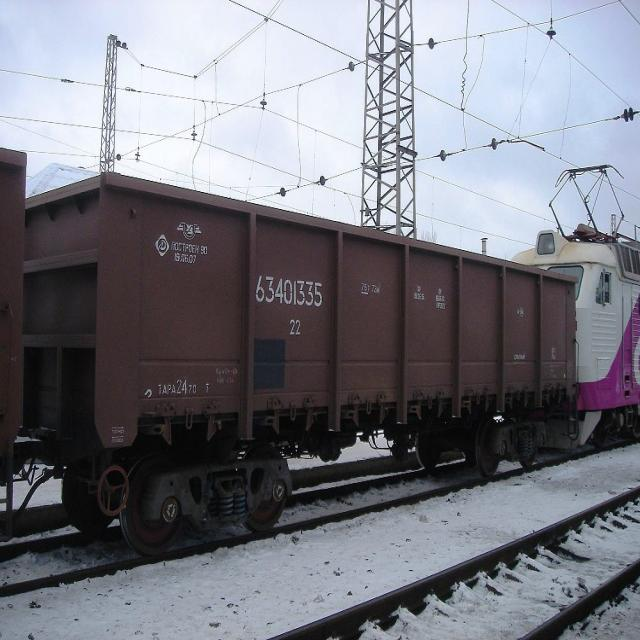gondola: (15, 155, 598, 560)
locomotive: (518, 162, 640, 455)
